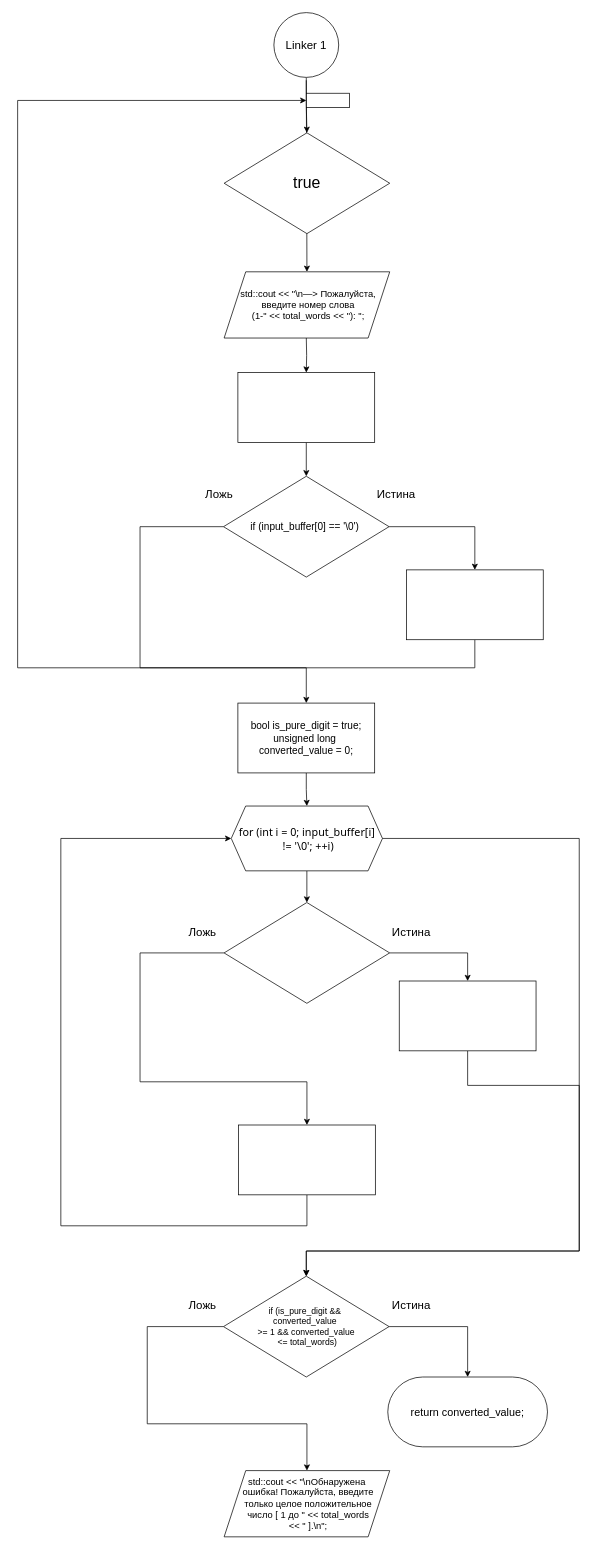
This 598x1549 diagram has some shape labels left out. The shapes that lost their labels are listed below. From the top down, each one's centre as x and y in pixels, then its label:
At pixel 306 407: "char input_buffer[64]; std::cin.getline (input_buffer, 64);".
At pixel 474 604: "continue;".
At pixel 306 952: "if (input_buffer[i] < '0' || input_buffer[i] > '9')".
At pixel 467 1015: "is_pure_digit = false; break;".
At pixel 306 1159: "converted_value = converted_value * 10 + (input_buffer[i] - '0');".
